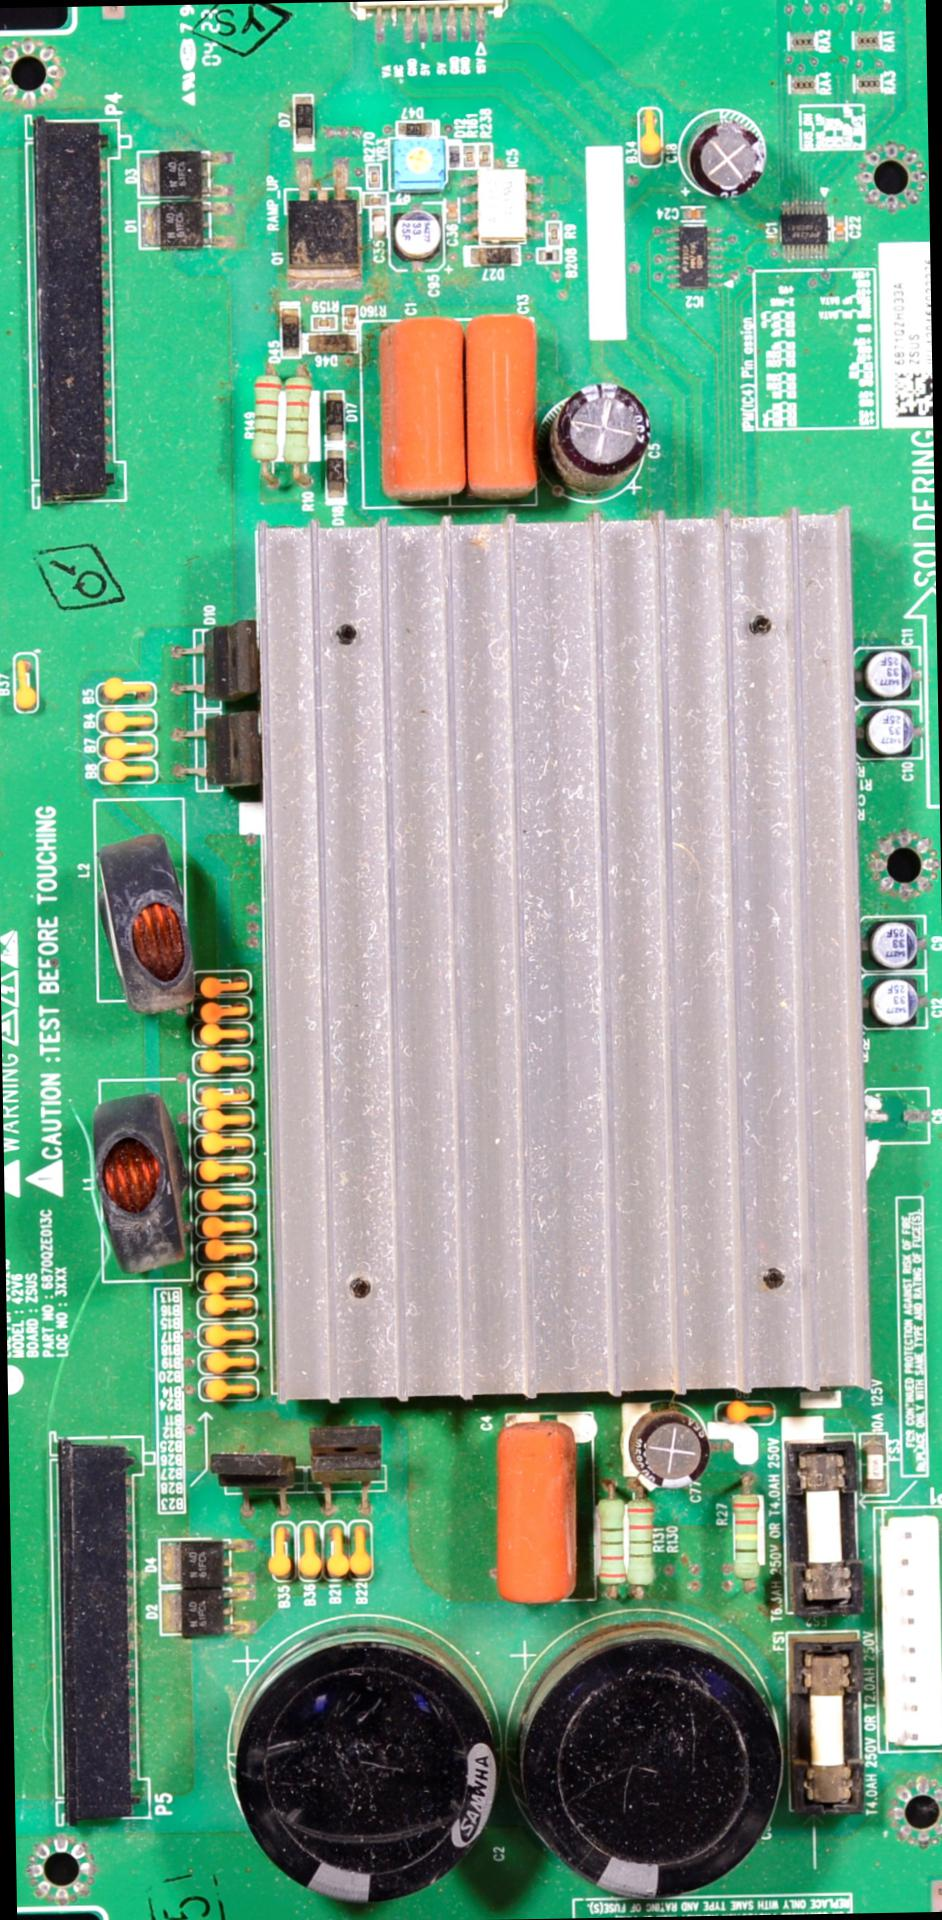Capacitor Jumper: (628, 1416, 688, 1463), (407, 212, 442, 264), (872, 988, 914, 1022), (876, 715, 916, 748), (702, 126, 731, 165), (873, 924, 906, 956), (869, 656, 898, 687), (370, 207, 385, 238), (681, 207, 704, 219), (833, 219, 844, 240)
Connector: (29, 111, 118, 502), (54, 1438, 142, 1826), (876, 1509, 941, 1751)
IC: (461, 169, 544, 242), (666, 224, 723, 287), (783, 200, 828, 258)
Resistor Jumper: (595, 1480, 625, 1597), (626, 1477, 653, 1596), (735, 1476, 762, 1589), (250, 373, 283, 462), (284, 373, 314, 462), (478, 144, 492, 169), (366, 164, 381, 189), (548, 222, 560, 245), (463, 144, 475, 167), (344, 306, 356, 328), (314, 316, 334, 328)
Transistor: (303, 200, 352, 268)
